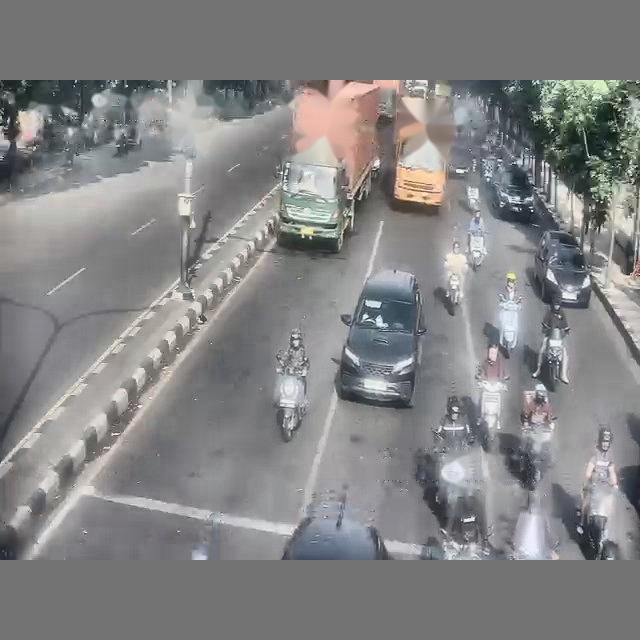Mobil: (337, 269, 425, 406), (281, 513, 391, 559), (534, 230, 591, 307), (493, 165, 534, 223), (447, 147, 472, 177)
Motor: (577, 480, 615, 559), (276, 353, 307, 442), (519, 416, 555, 490), (477, 380, 505, 451), (499, 294, 521, 356), (544, 328, 565, 391), (469, 232, 484, 271), (447, 273, 460, 314)
Truk: (276, 81, 379, 252), (392, 95, 455, 208)
